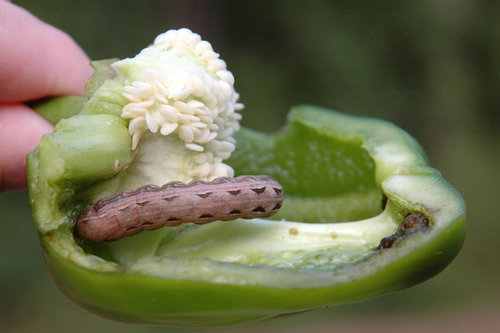Armyworm: (75, 178, 300, 229)
